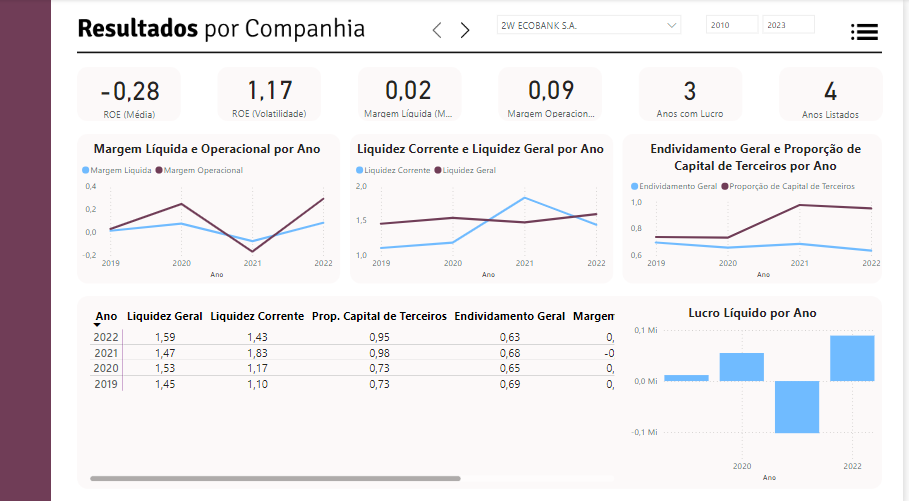

The dashboard page shown, as its layout file describes it:
{"tool":"powerbi","page":{"name":"Resultados por Companhia","canvas":[1280,720],"ordinal":0},"visuals":[{"type":"slicer","fields":{"Values":["public companhias.nome_companhia"]},"box":[695.4,13.4,280.5,53.8],"z":0},{"type":"slicer","fields":{"Values":["public demonstracoes.ano.Variation.Hierarquia de datas.Ano"]},"box":[989.4,13.4,196.5,53.8],"z":1},{"type":"pivotTable","fields":{"Rows":["public demonstracoes.ano.Variation.Hierarquia de datas.Ano"],"Values":["Avg(public demonstracoes.liquidez_geral)","Avg(public demonstracoes.liquidez_corrente)","Avg(public demonstracoes.prop_capitalterceiros)","Avg(public demonstracoes.endividamento_geral)","Avg(public demonstracoes.margem_liquida)","Avg(public demonstracoes.margem_operacional)","Avg(public demonstracoes.roe)"]},"box":[112.2,420,753.3,278.9],"z":2},{"type":"lineChart","fields":{"Category":["public demonstracoes.ano.Variation.Hierarquia de datas.Ano"],"Y":["Avg(public demonstracoes.margem_liquida)","Avg(public demonstracoes.margem_operacional)"]},"box":[112.5,188.1,364.5,213.3],"z":3},{"type":"lineChart","fields":{"Category":["public demonstracoes.ano.Variation.Hierarquia de datas.Ano"],"Y":["Avg(public demonstracoes.liquidez_corrente)","Avg(public demonstracoes.liquidez_geral)"]},"box":[500.6,188.1,364.5,213.3],"z":4},{"type":"lineChart","fields":{"Category":["public demonstracoes.ano.Variation.Hierarquia de datas.Ano"],"Y":["Avg(public demonstracoes.endividamento_geral)","Avg(public demonstracoes.prop_capitalterceiros)"]},"box":[890.3,188.1,364.5,213.3],"z":5},{"type":"card","fields":{"Values":["Avg(public demonstracoes.roe)"]},"box":[116.7,96.7,136.7,77.8],"z":6},{"type":"card","fields":{"Values":["Avg(public demonstracoes.margem_liquida)"]},"box":[512.2,94.4,136.7,77.8],"z":7},{"type":"card","fields":{"Values":["Avg(public demonstracoes.margem_operacional)"]},"box":[714.4,94.4,136.7,77.8],"z":8},{"type":"columnChart","fields":{"Category":["public demonstracoes.ano.Variation.Hierarquia de datas.Ano"],"Y":["Avg(public demonstracoes.lucro_liquido)"]},"box":[890,420,364.4,278.9],"z":9},{"type":"card","fields":{"Values":["Avg(public demonstracoes.margem_operacional)"]},"box":[911.1,94.4,136.7,77.8],"z":10},{"type":"card","fields":{"Values":["Count(public demonstracoes.ano.Variation.Hierarquia de datas.Ano)"]},"box":[1110,96.7,136.7,77.8],"z":11},{"type":"card","fields":{"Values":["Sum(public demonstracoes.roe)"]},"box":[314.4,94.4,136.7,77.8],"z":12},{"type":"actionButton","box":[635,20,50,46.7],"z":13},{"type":"actionButton","box":[1201.7,23.3,50,46.7],"z":14}]}

Visuals, with their boxes in screenshot pixels (x1, y1, x2, y2), scaled from the page's 1280x720 canvas onto the 909x501 screenshot:
slicer - public companhias.nome_companhia: Rect(494, 9, 693, 47)
slicer - public demonstracoes.ano.Variation.Hierarquia de datas.Ano: Rect(703, 9, 842, 47)
pivotTable - public demonstracoes.ano.Variation.Hierarquia de datas.Ano x Avg(public demonstracoes.liquidez_geral): Rect(80, 292, 615, 486)
lineChart - public demonstracoes.ano.Variation.Hierarquia de datas.Ano x Avg(public demonstracoes.margem_liquida): Rect(80, 131, 339, 279)
lineChart - public demonstracoes.ano.Variation.Hierarquia de datas.Ano x Avg(public demonstracoes.liquidez_corrente): Rect(356, 131, 614, 279)
lineChart - public demonstracoes.ano.Variation.Hierarquia de datas.Ano x Avg(public demonstracoes.endividamento_geral): Rect(632, 131, 891, 279)
card - Avg(public demonstracoes.roe): Rect(83, 67, 180, 121)
card - Avg(public demonstracoes.margem_liquida): Rect(364, 66, 461, 120)
card - Avg(public demonstracoes.margem_operacional): Rect(507, 66, 604, 120)
columnChart - public demonstracoes.ano.Variation.Hierarquia de datas.Ano x Avg(public demonstracoes.lucro_liquido): Rect(632, 292, 891, 486)
card - Avg(public demonstracoes.margem_operacional): Rect(647, 66, 744, 120)
card - Count(public demonstracoes.ano.Variation.Hierarquia de datas.Ano): Rect(788, 67, 885, 121)
card - Sum(public demonstracoes.roe): Rect(223, 66, 320, 120)
actionButton: Rect(451, 14, 486, 46)
actionButton: Rect(853, 16, 889, 49)
